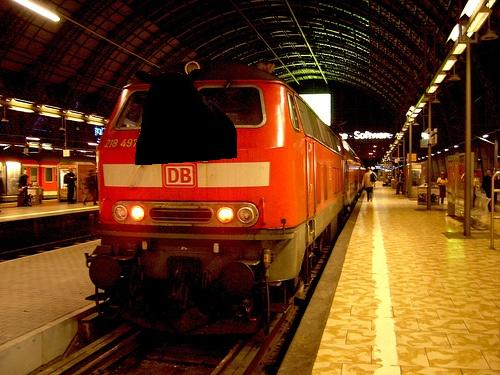tampered: (135, 70, 237, 165)
